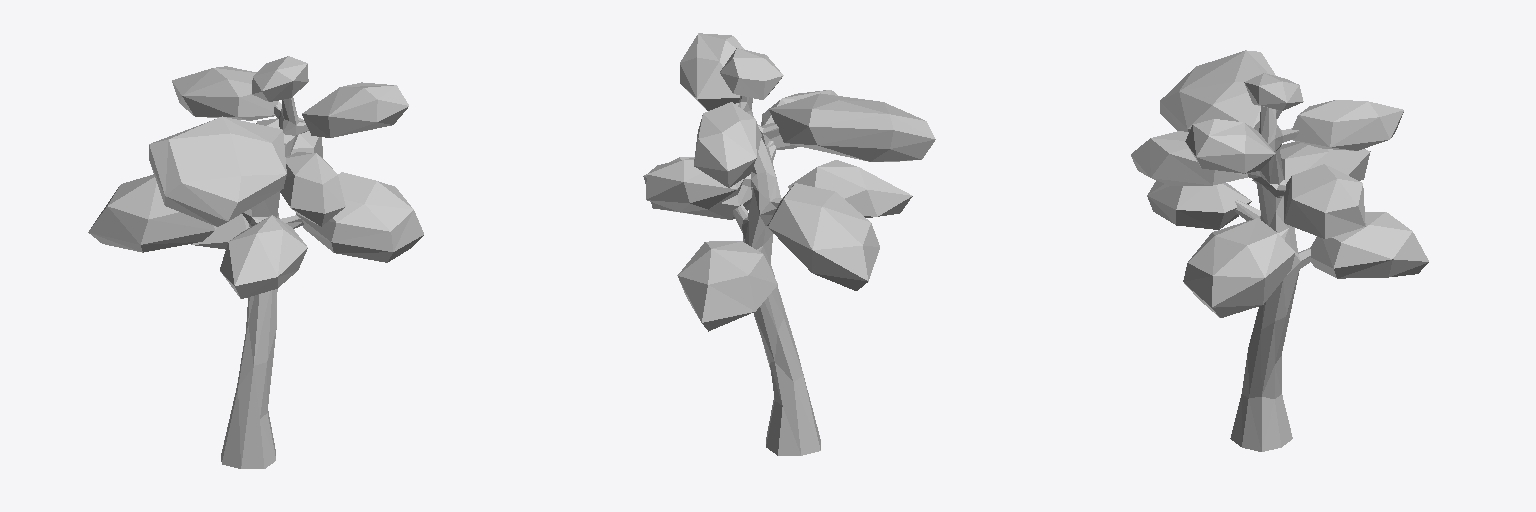
File: Tree 2.obj
3 renders of one model, left to right at view 1: azimuth 30°, elevation 25°; view 2: azimuth 150°, elevation 25°; view 3: azimuth 270°, elevation 25°, orthographic.
Parts seen in each view (by area): view 1: Leaves_Sphere.007, Trunk_Cube; view 2: Leaves_Sphere.007, Trunk_Cube; view 3: Leaves_Sphere.007, Trunk_Cube.
Part boxes in pixels (x1,y1,x2,y2): Leaves_Sphere.007: (88,56,423,298); Trunk_Cube: (221,97,308,468); Leaves_Sphere.007: (643,33,935,331); Trunk_Cube: (733,96,820,455); Leaves_Sphere.007: (1131,50,1428,317); Trunk_Cube: (1230,106,1311,451).
Size of the model in its own units: 2.06 by 2.79 by 1.98.